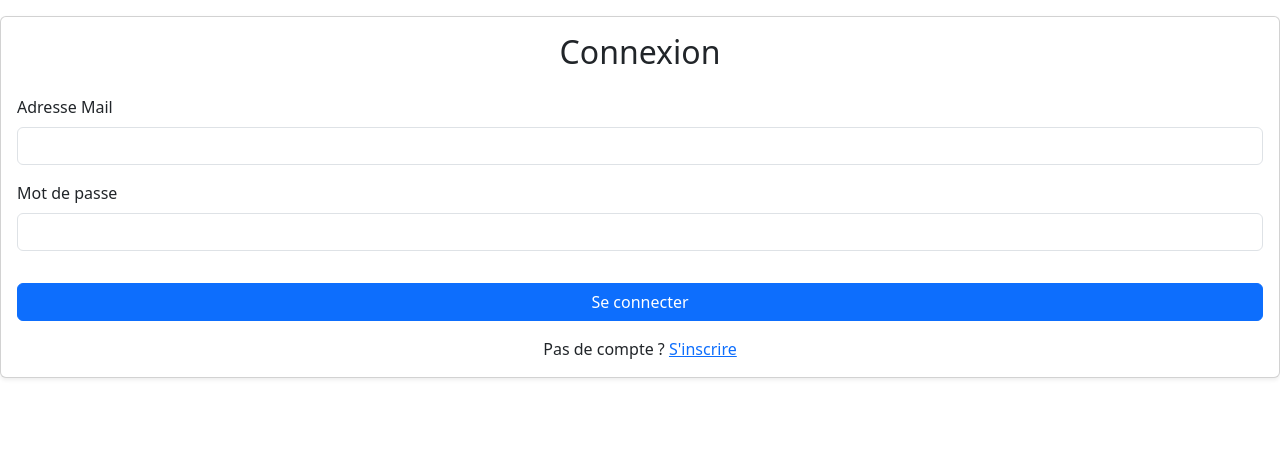
LoginPage › doit afficher une erreur si la connexion échoue
Type "wrong@example.com" into the field labelled "Adresse Mail" at x=640, y=146, box [17,127,1263,165]
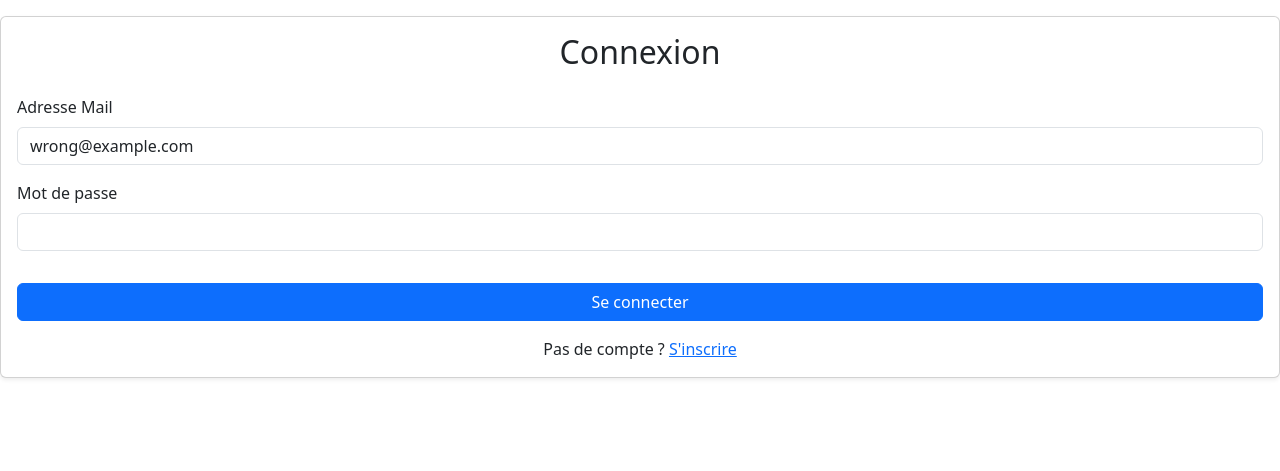
Type "wrong" into the password field labelled "Mot de passe" at x=640, y=232, box [17,213,1263,251]
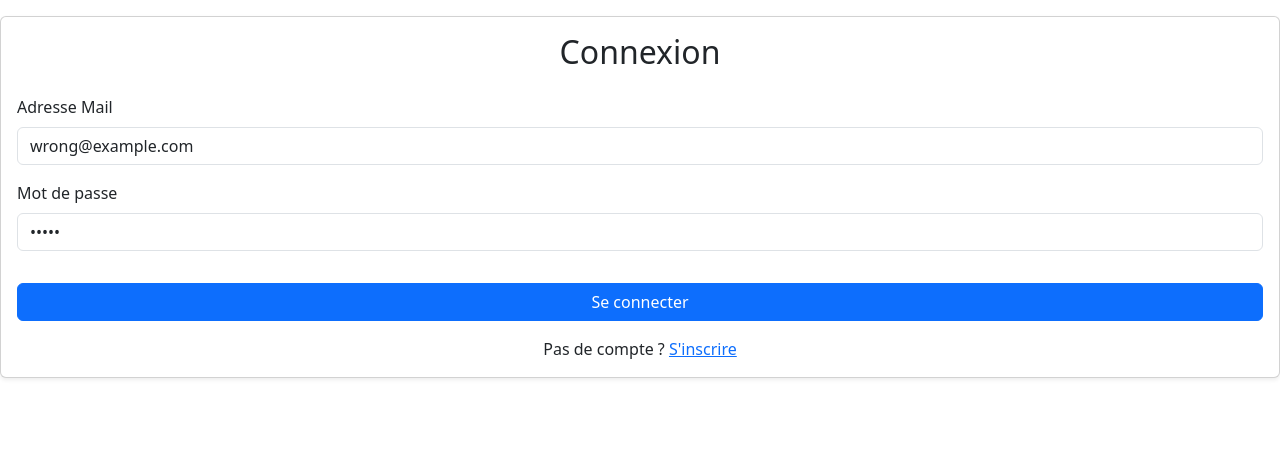
Click the button "Se connecter" at x=640, y=302, box [17,283,1263,321]
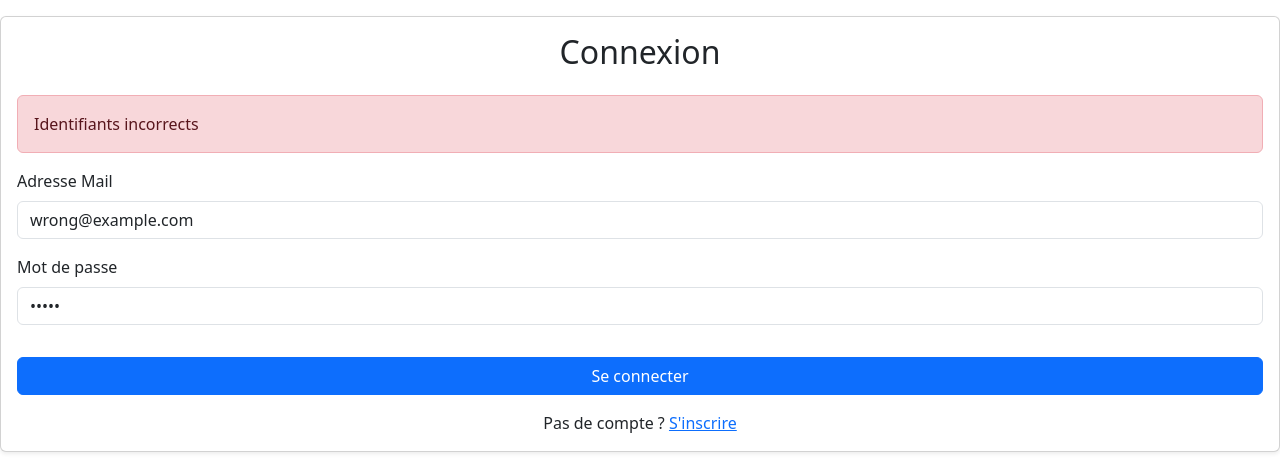
Expected: the text "Identifiants incorrects" is shown, [17,95,1263,153]
